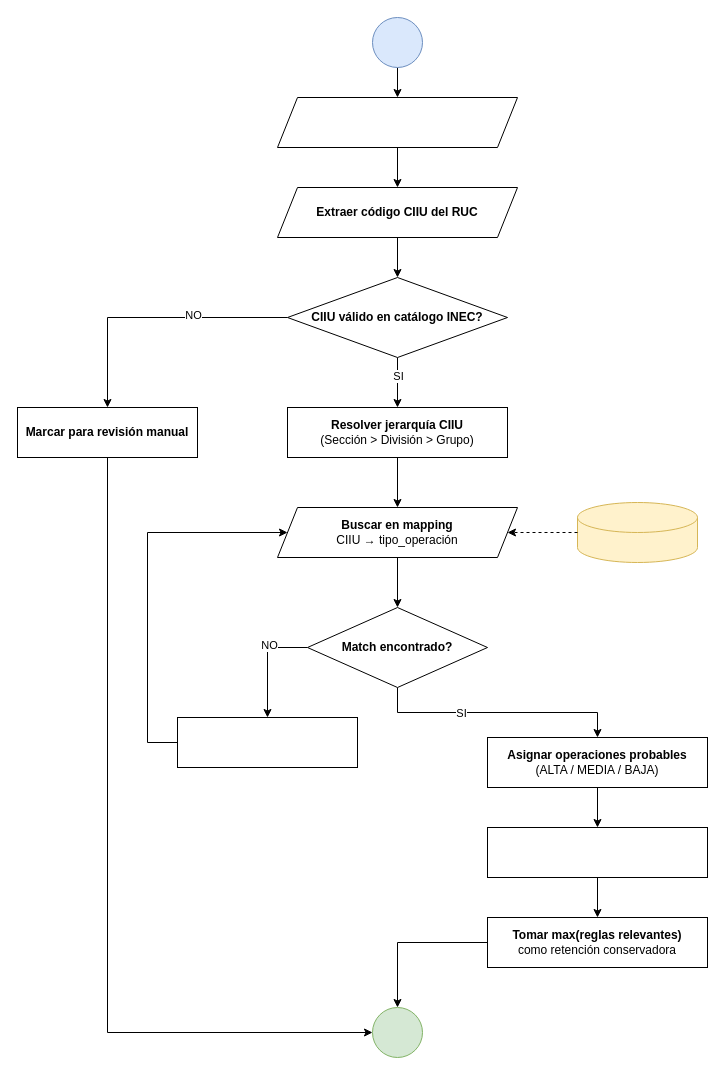
The diagram is 725 pixels wide and 1075 high, and some of its shapes have lost their labels. Each missing label, with the centre of its shape:
CIIU_MAPPING (328 reglas): (x=637, y=532)
Consultar RUC en catastro SRI: (x=397, y=122)
Filtrar reglas solo para operaciones relevantes: (x=597, y=852)
Usar sección padre más cercana: (x=267, y=742)
